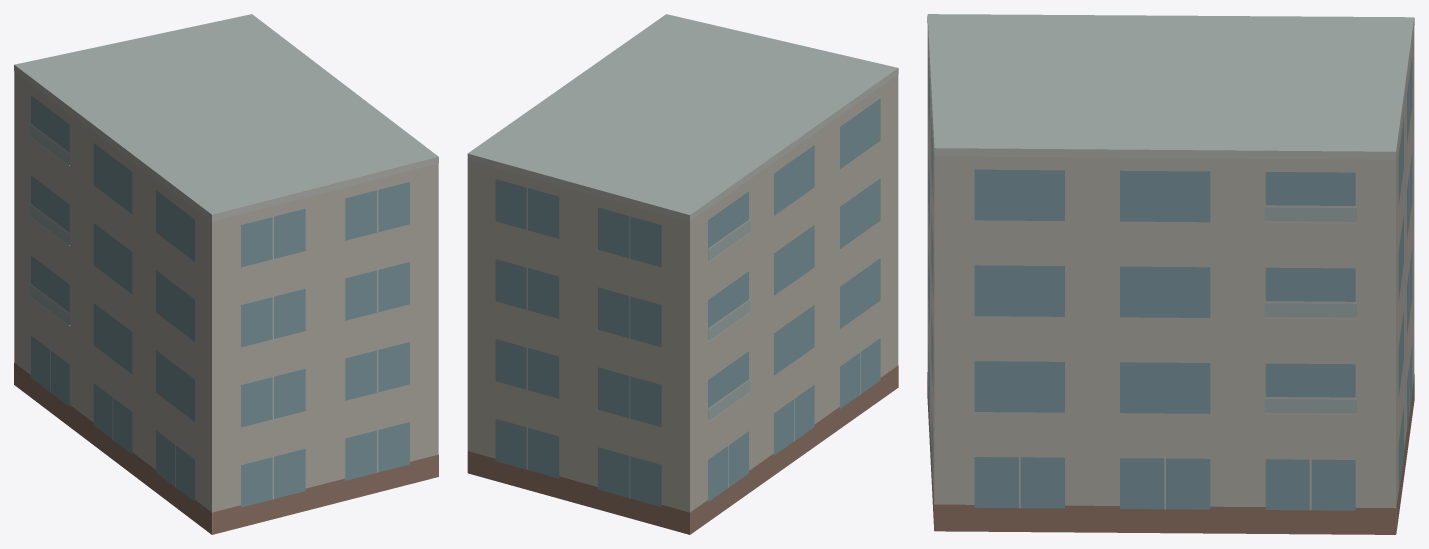
The model's file is survey-upis-33017979.glb.
The picture shows the model from 3 angles, left to right: view 1: azimuth 30°, elevation 25°; view 2: azimuth 150°, elevation 25°; view 3: azimuth 270°, elevation 25°; orthographic projection. The views are drawn at different scales.
Visible parts, largest first — view 1: survey-upis-33017979.tmp; view 2: survey-upis-33017979.tmp; view 3: survey-upis-33017979.tmp.
Boxes of the visible parts, x1,y1,x2,y2 form: survey-upis-33017979.tmp: (14,14,438,534); survey-upis-33017979.tmp: (467,14,898,534); survey-upis-33017979.tmp: (927,14,1414,534).
Size of the model in its own units: 9.04 by 11.7 by 13.48.
